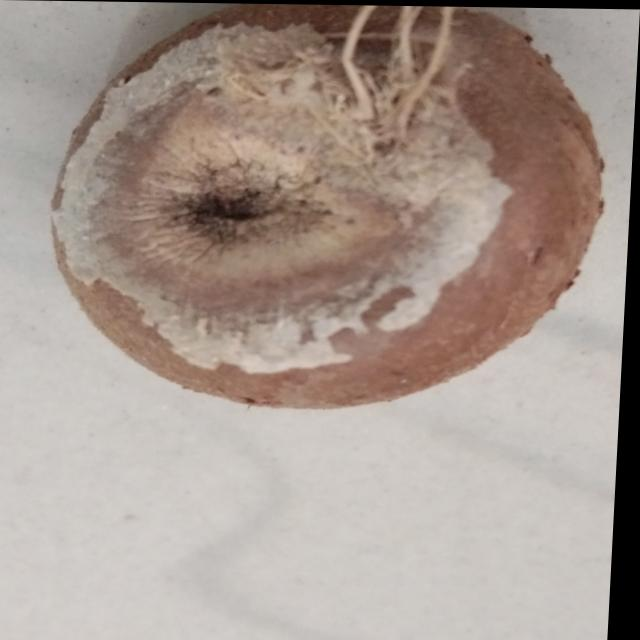phatora: (15, 0, 640, 449)
